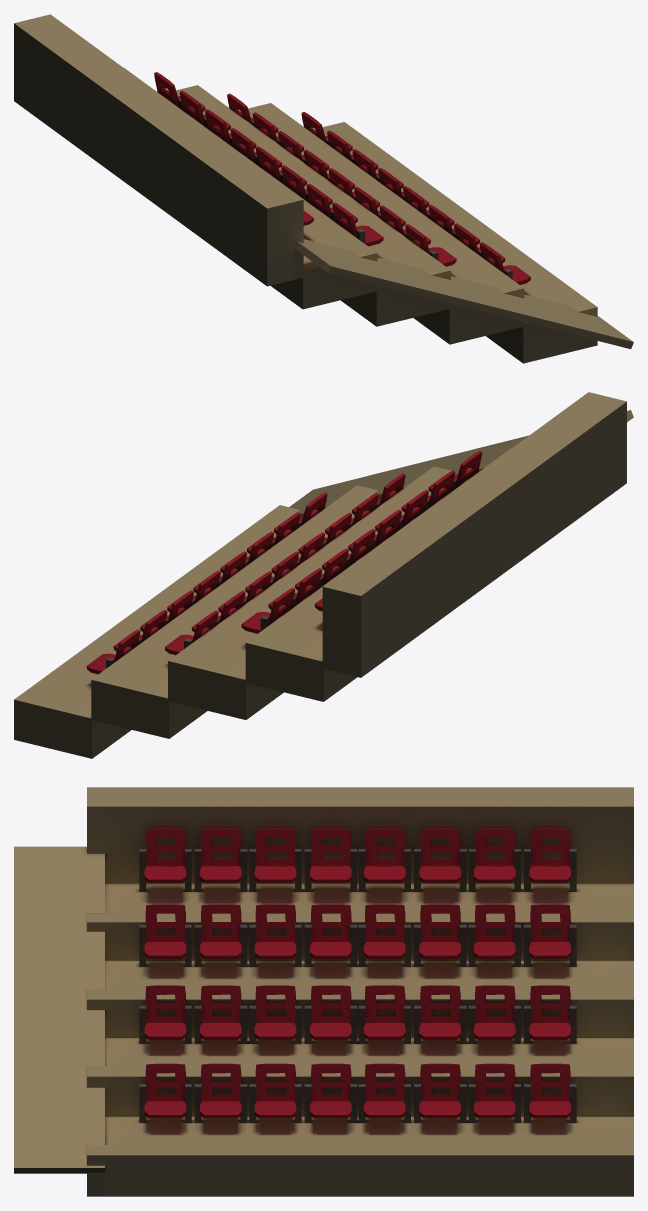
File: seating.dae
3 renders of one model, top to bottom at view 1: azimuth 30°, elevation 25°; view 2: azimuth 150°, elevation 25°; view 3: azimuth 270°, elevation 25°, orthographic. The views are drawn at different scales.
Parts seen in each view (by area): view 1: floors_129; view 2: floors_129; view 3: floors_129.
Boxes of the visible parts, <box> form: floors_129: <box>14,14,633,363</box>; floors_129: <box>14,392,633,758</box>; floors_129: <box>14,787,633,1196</box>.
Bounding box in the file's own units: 18.22 × 27.21 × 11.37.
1 material, 1 textured.
